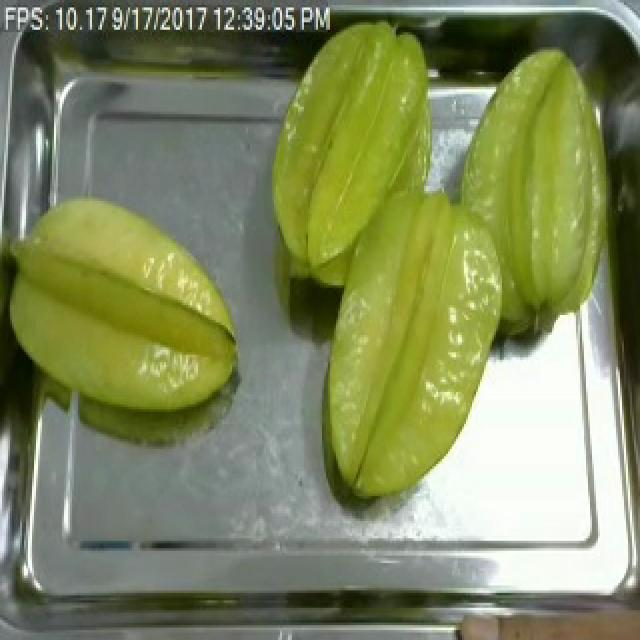fruit: (310, 174, 516, 511), (0, 186, 248, 424), (448, 30, 634, 335), (258, 12, 448, 302), (444, 588, 640, 640)
